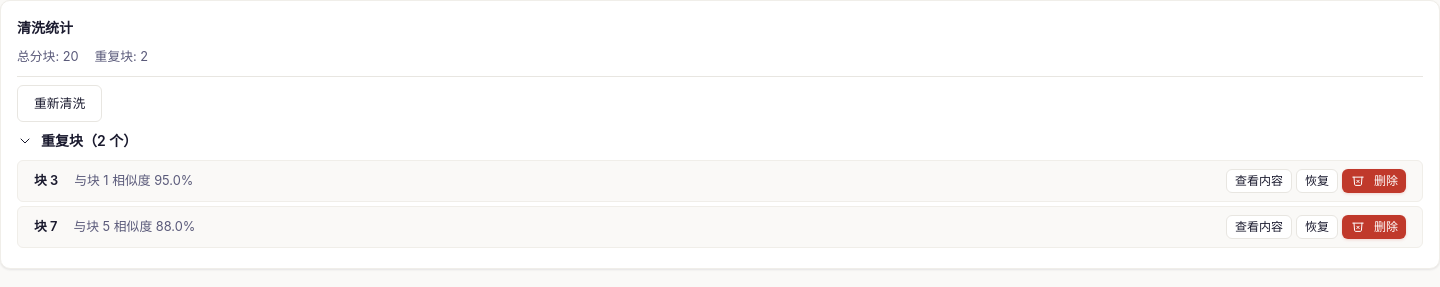
Test: 段级折叠（2026-10-19 新增） › ★ 点一下收起：列表消失，但**标题按钮仍在**（否则没法再打开）
The width and height of the screenshot is (1440, 287).
Click the button "重复块（2 个）".
click(77, 141)  # box [17,130,137,152]
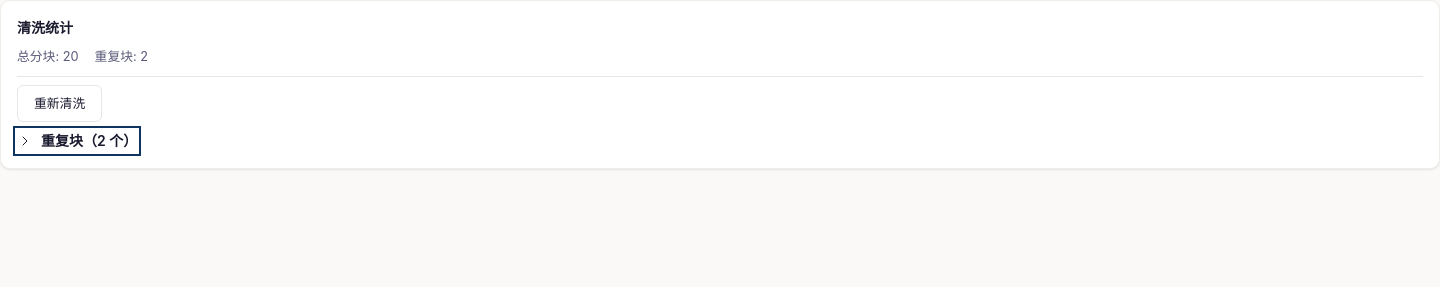
Expected: the button "重复块（2 个）" is collapsed, [17,130,137,152]
Expected: the text "块 3" is gone
Expected: the text "块 7" is gone
